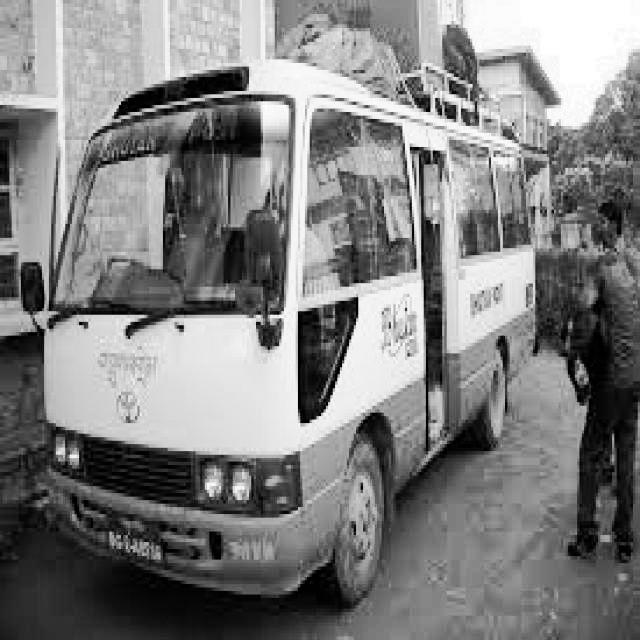Bus: (20, 33, 547, 619)
